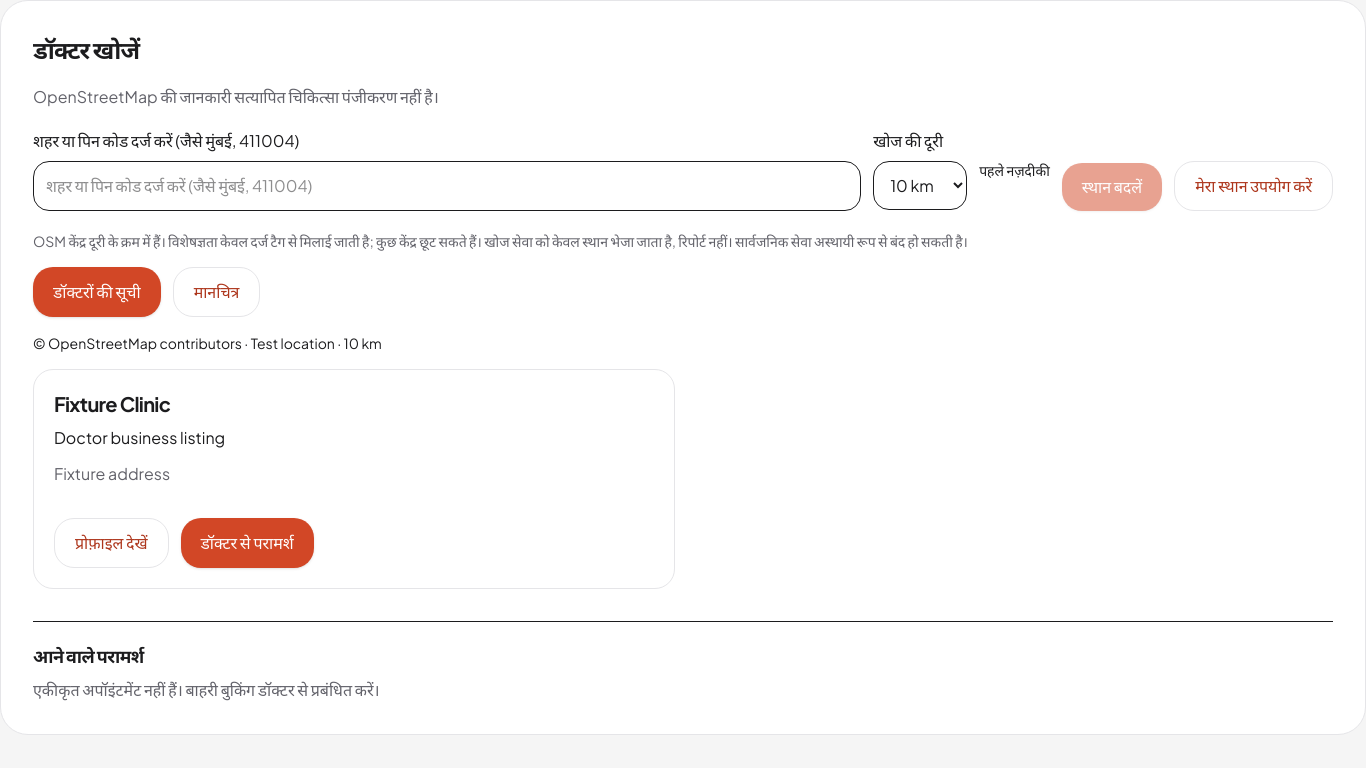
it: Consultation and explicit report consent › supports consultation consent in hi
expect the heading "Fixture Clinic" is shown: met, box x1=54 y1=391 x2=170 y2=416
Click the button "प्रोफ़ाइल देखें": (111, 543) x1=54 y1=518 x2=168 y2=568
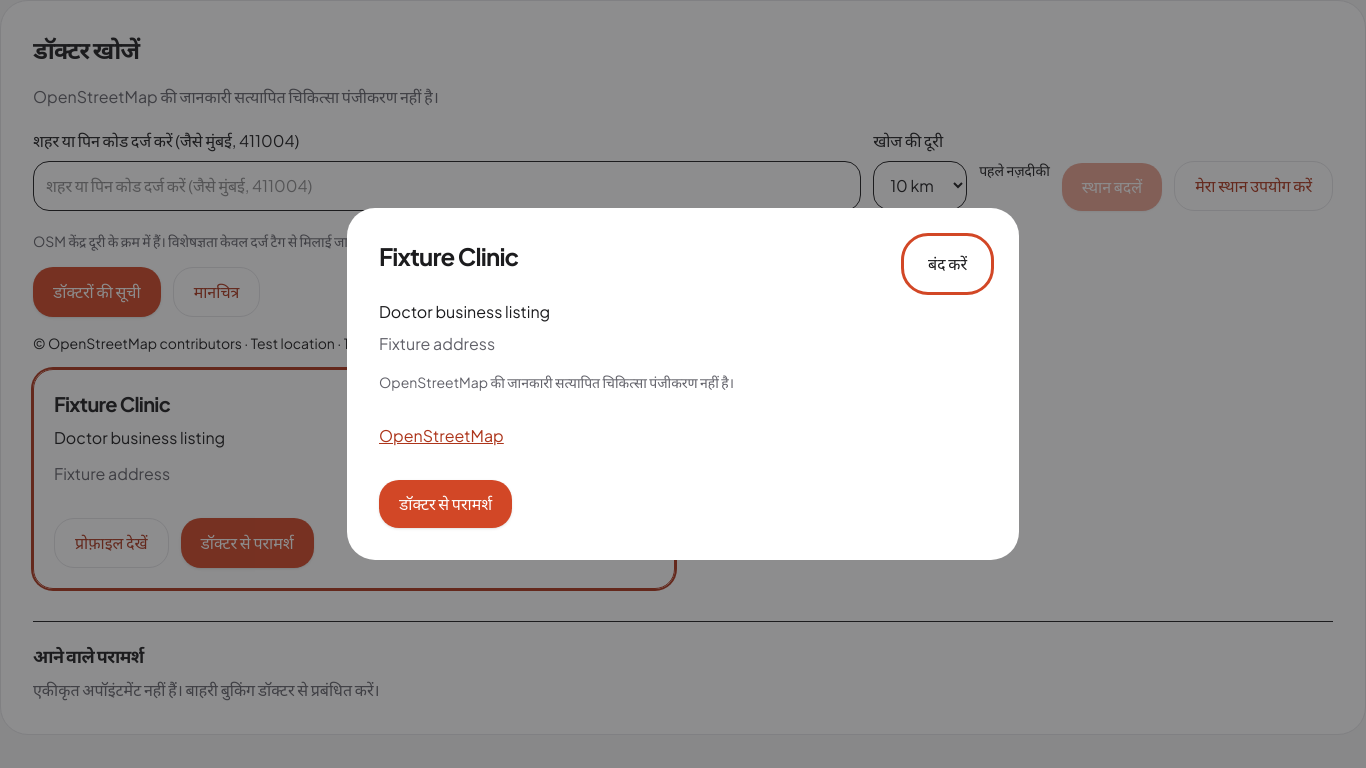
Click the button "डॉक्टर से परामर्श": (446, 504) x1=379 y1=480 x2=512 y2=528
(page scrolled)
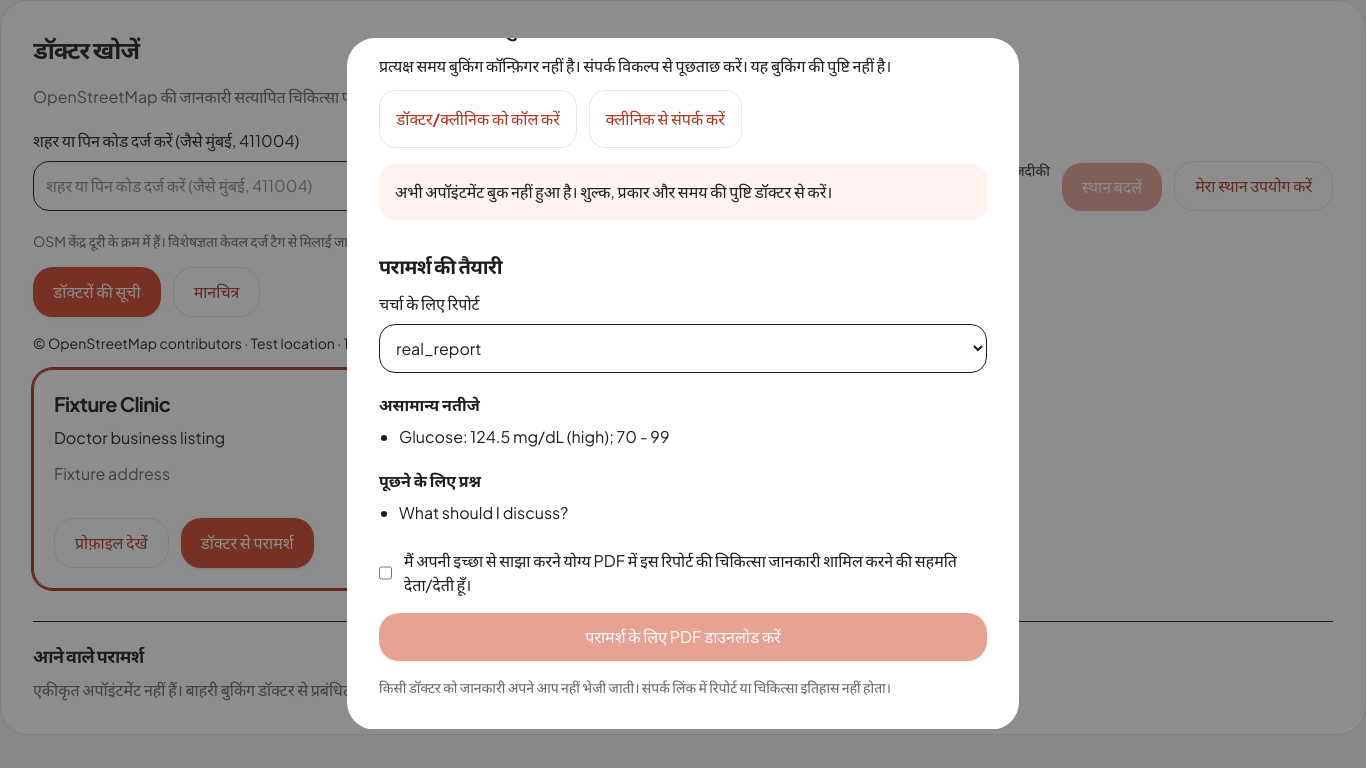
expect the checkbox is not checked: met, box x1=379 y1=549 x2=392 y2=597
